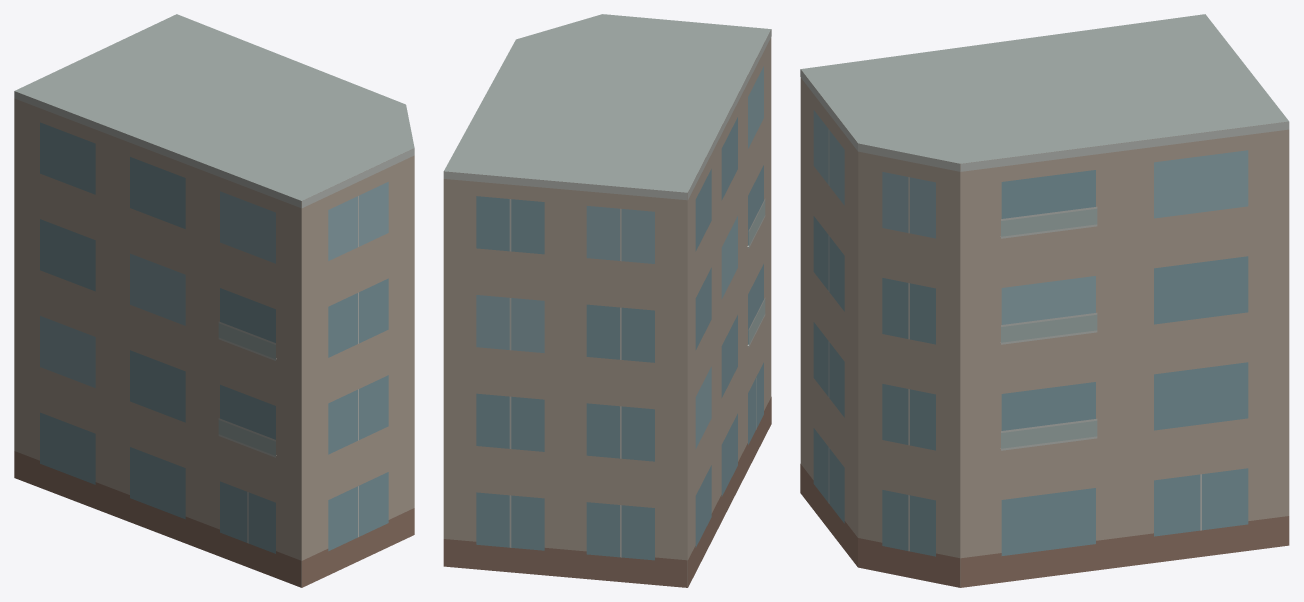
The model's file is survey-upis-32918776.glb.
3 renders of one model, left to right at view 1: azimuth 30°, elevation 25°; view 2: azimuth 150°, elevation 25°; view 3: azimuth 270°, elevation 25°, orthographic. The views are drawn at different scales.
Parts seen in each view (by area): view 1: survey-upis-32918776.tmp; view 2: survey-upis-32918776.tmp; view 3: survey-upis-32918776.tmp.
Part boxes in pixels (<box>): survey-upis-32918776.tmp: <box>14,14,414,587</box>; survey-upis-32918776.tmp: <box>443,14,771,587</box>; survey-upis-32918776.tmp: <box>800,14,1289,587</box>.
Size of the model in its own units: 9.71 by 12.8 by 13.38.
